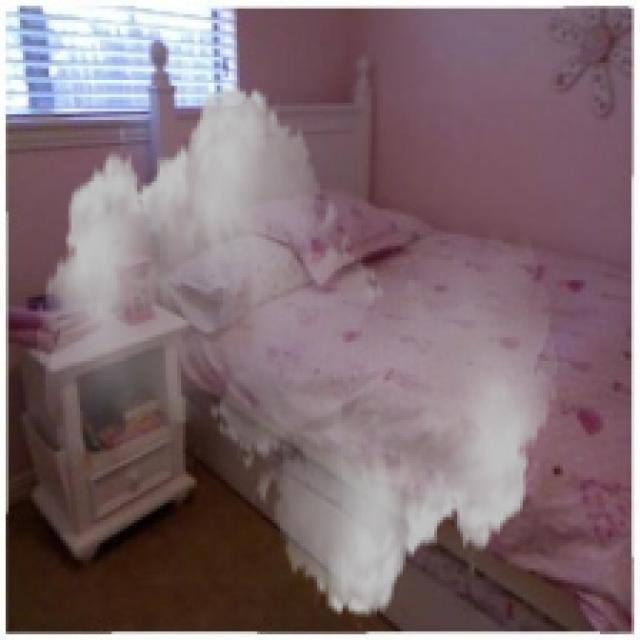Smoke: (37, 68, 557, 634)
